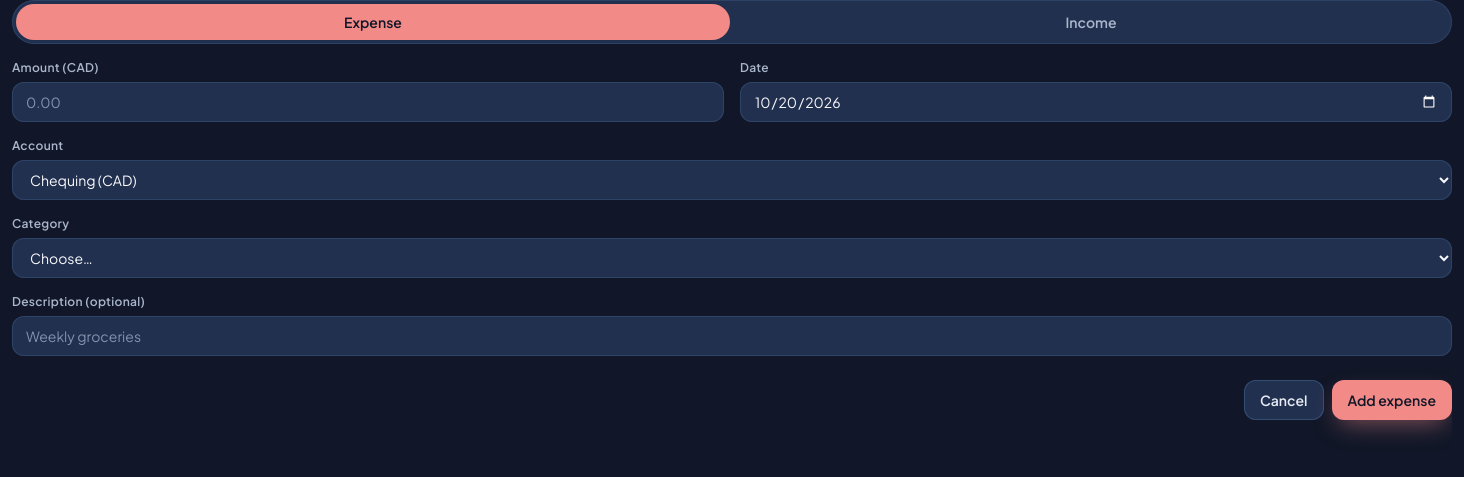
Test: TransactionForm › checks amounts against the selected account’s currency
Select "Yen wallet (JPY)" in the dropdown labelled "Account": (732,180) [12,160,1452,200]
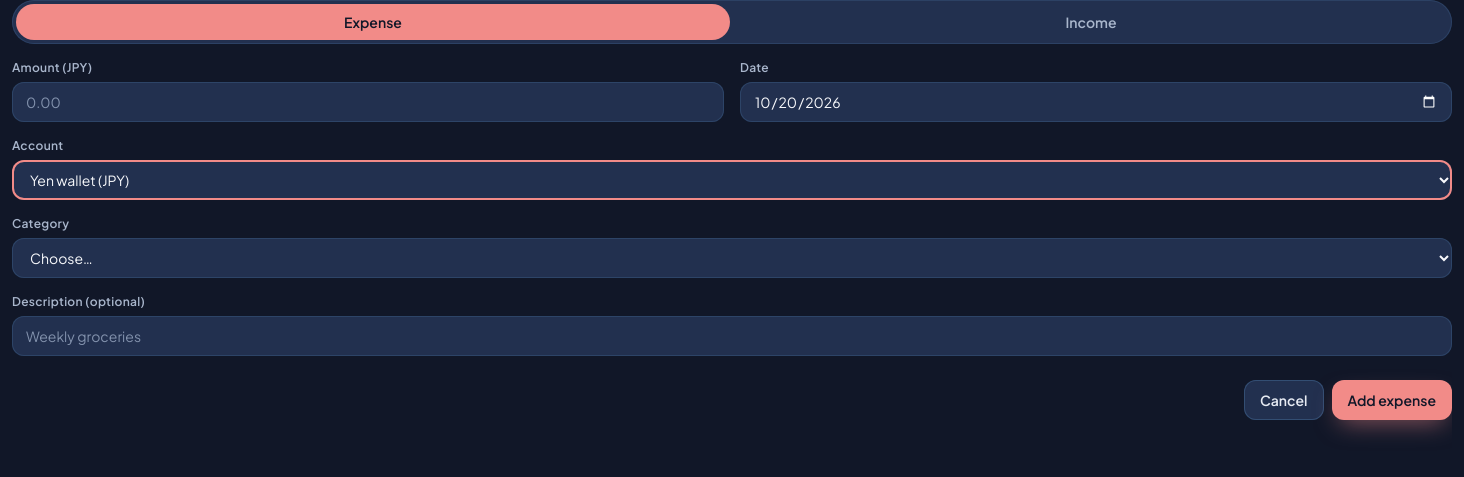
Select "Groceries" in the dropdown labelled "Category": (732,258) [12,238,1452,278]
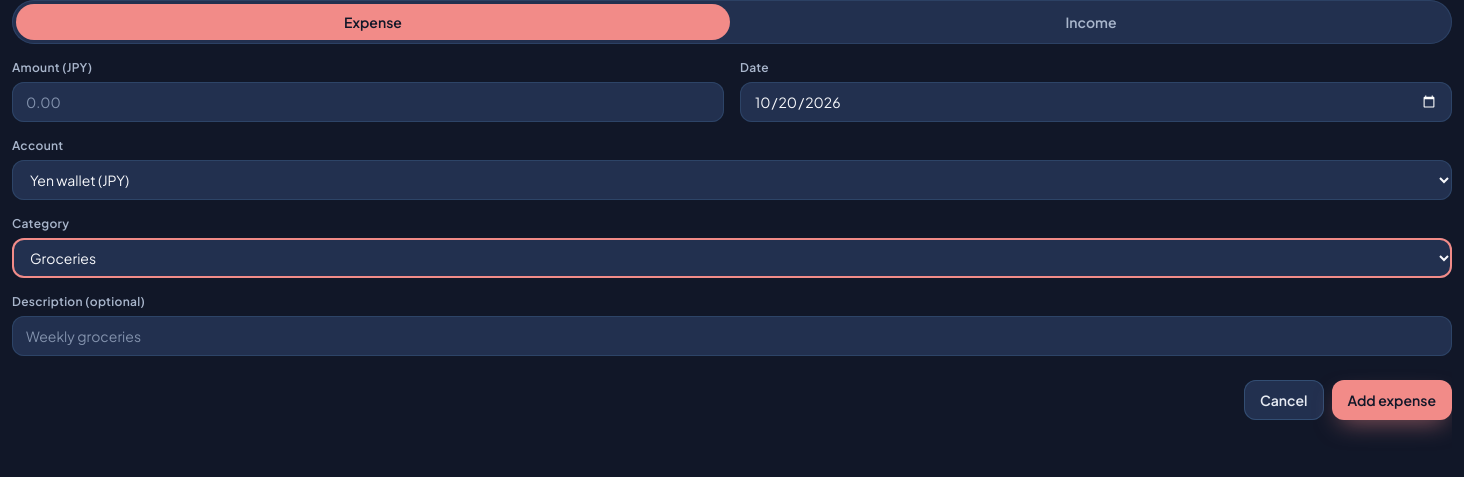
In the field labelled "Amount (JPY)": (368,102) [12,82,724,122], type "10.5"
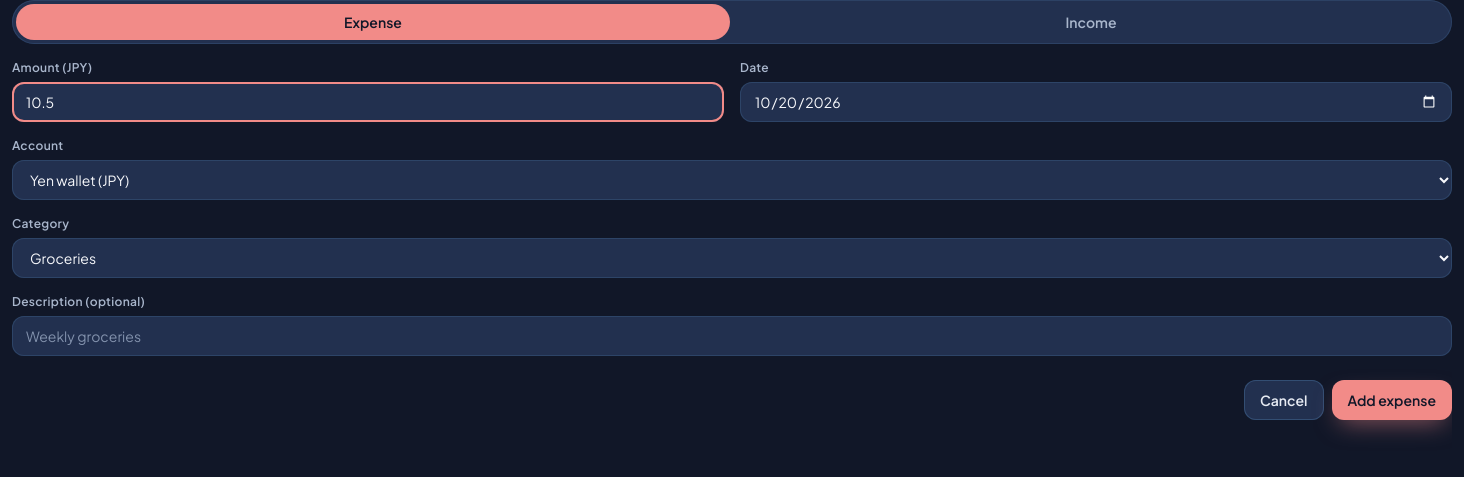
Click the button "Add expense": (1392,400) [1332,380,1452,420]
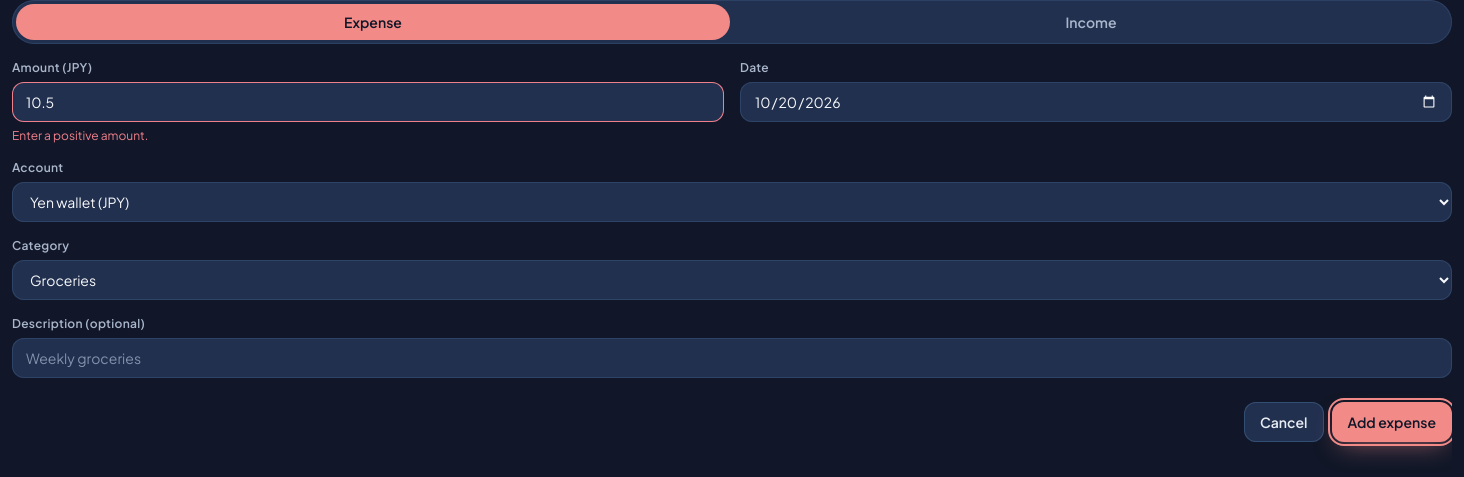
expect the text "Enter a positive amount." is shown: met, box [12,128,148,143]
